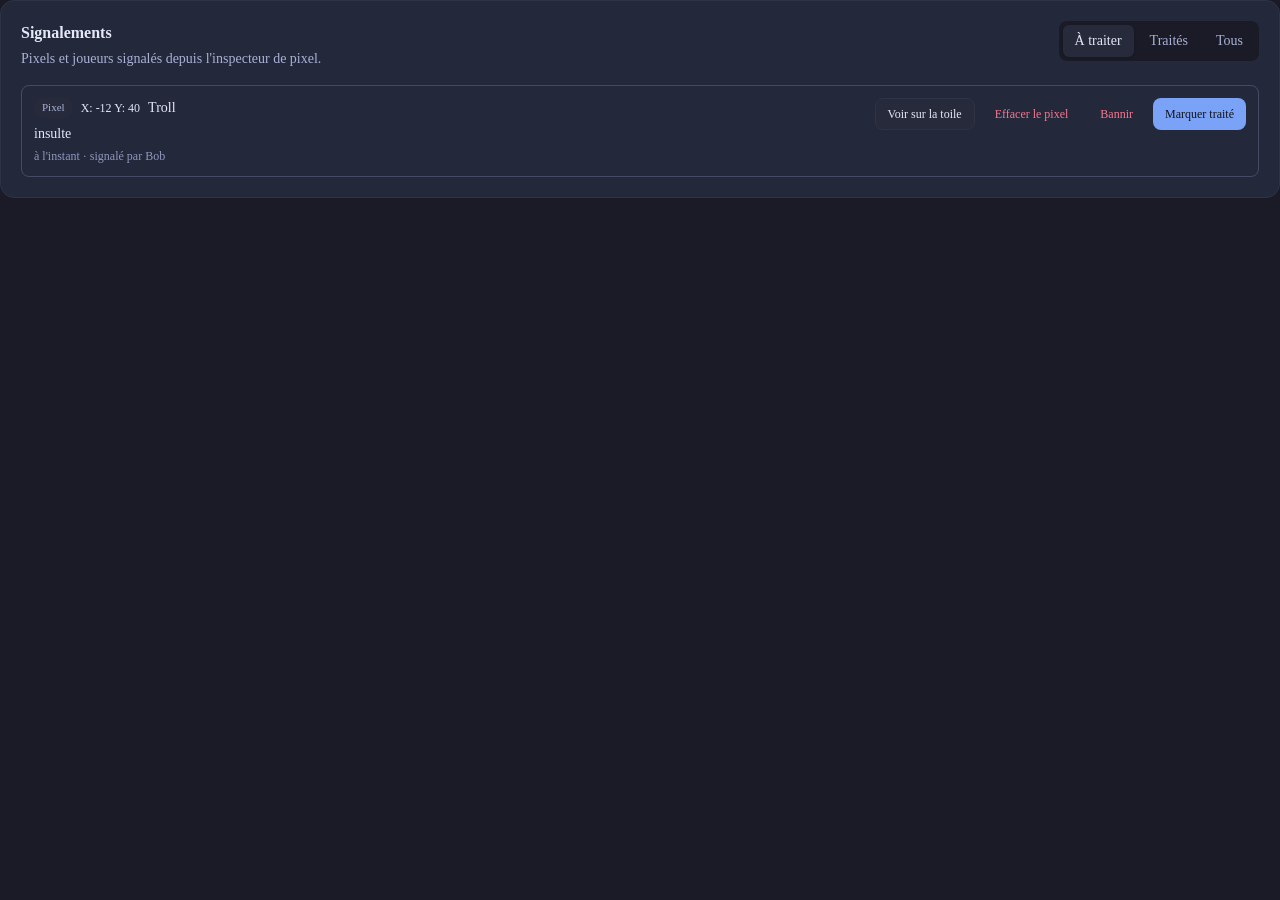
Test: <ReportsSection /> › efface le pixel après confirmation, en coordonnées de grille
Click the button "Effacer le pixel" at {"x": 1031, "y": 114}, box [983,98,1080,130]
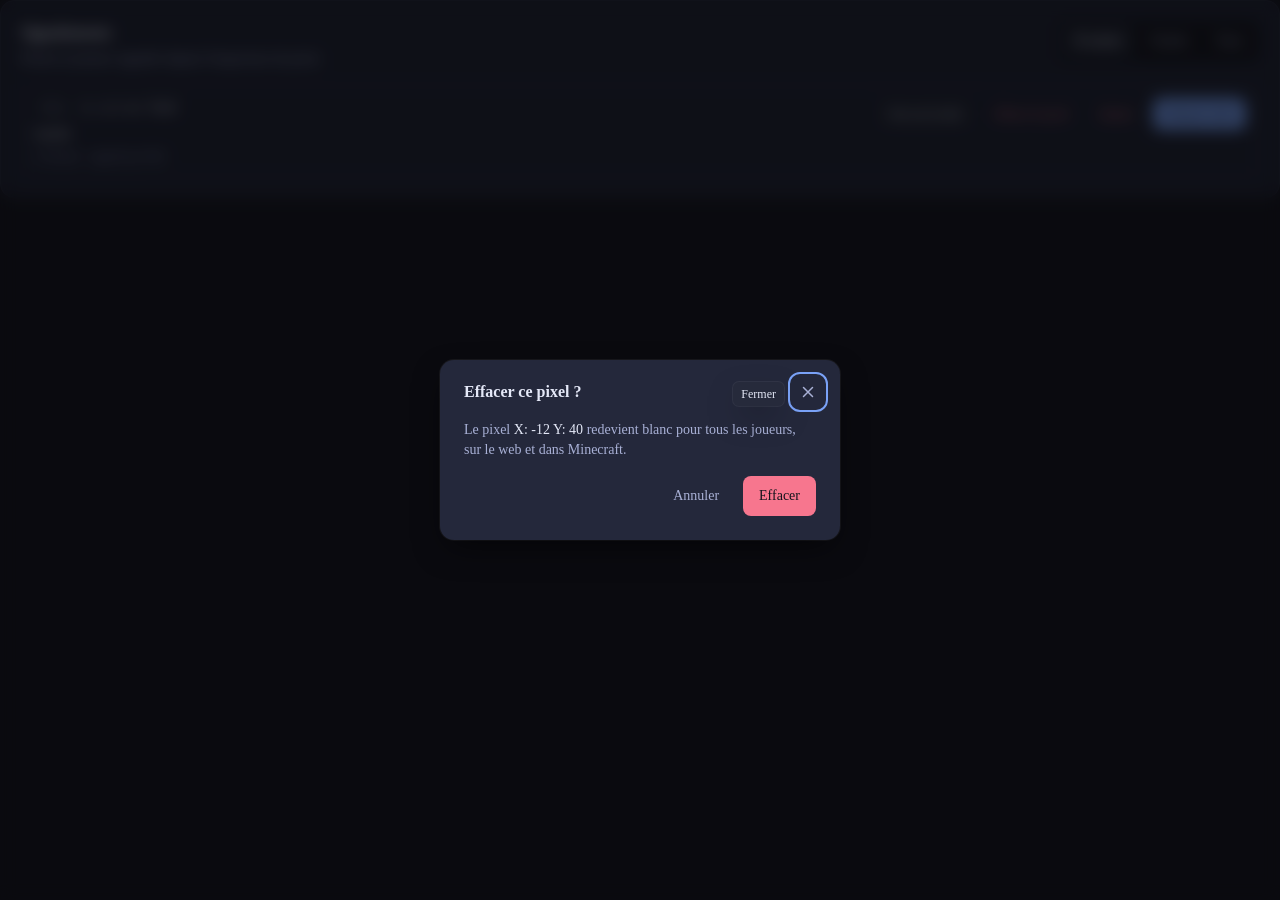
Click the button "Effacer" at {"x": 780, "y": 496}, box [743,476,816,516]
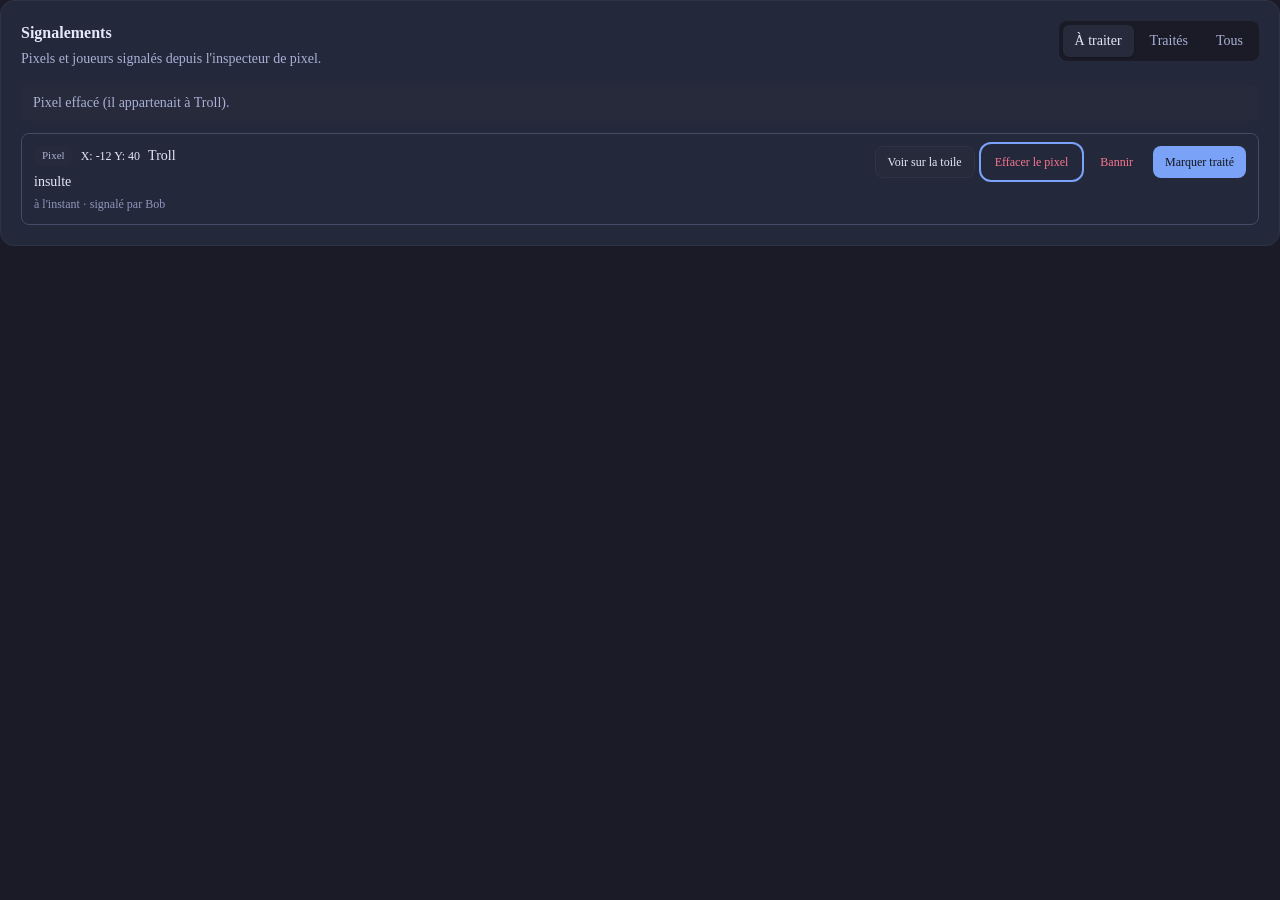
expect the text "Pixel effacé (il appartenait à Troll)." is shown: met, box [21,85,1259,121]
